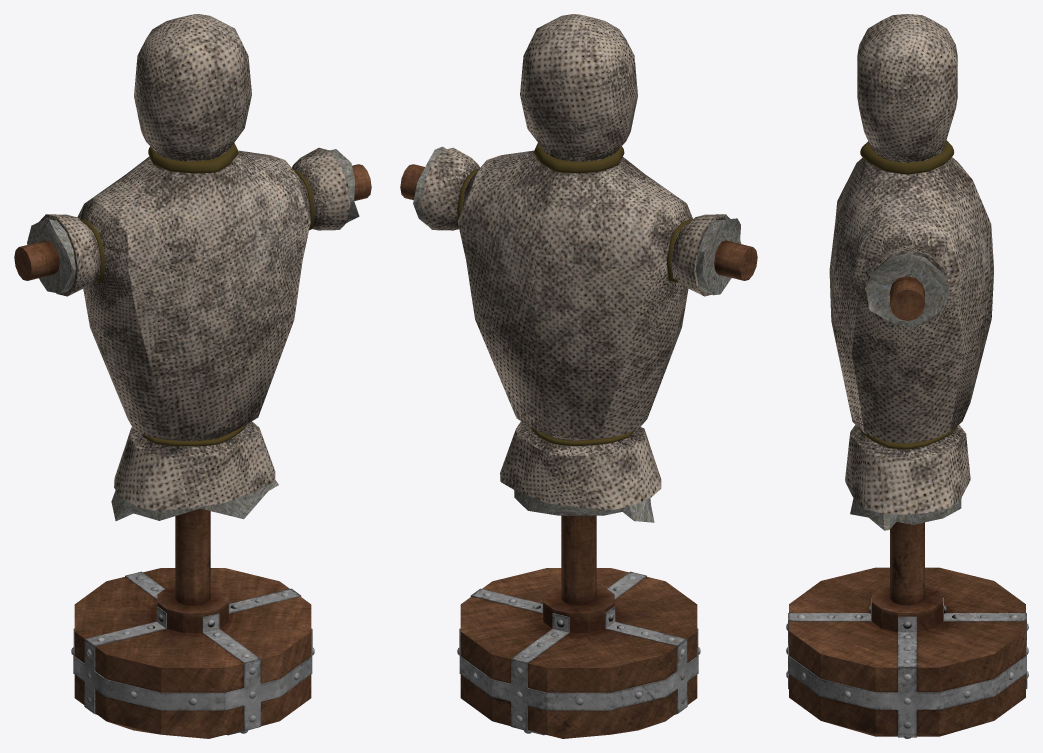
File: dummy.glb
The picture shows the model from 3 angles, left to right: view 1: azimuth 30°, elevation 25°; view 2: azimuth 150°, elevation 25°; view 3: azimuth 270°, elevation 25°; orthographic projection.
Parts seen in each view (by area): view 1: Upper, Base; view 2: Upper, Base; view 3: Upper, Base.
Part boxes in pixels (x1,y1,x2,y2): Upper: (14,14,371,605); Base: (71,568,314,738); Upper: (400,14,757,605); Base: (457,568,700,738); Upper: (829,14,993,605); Base: (786,567,1028,738).
Bounding box in the file's own units: 0.9408 × 1.86 × 0.5823.
Materials: 1 (1 with a texture image).
